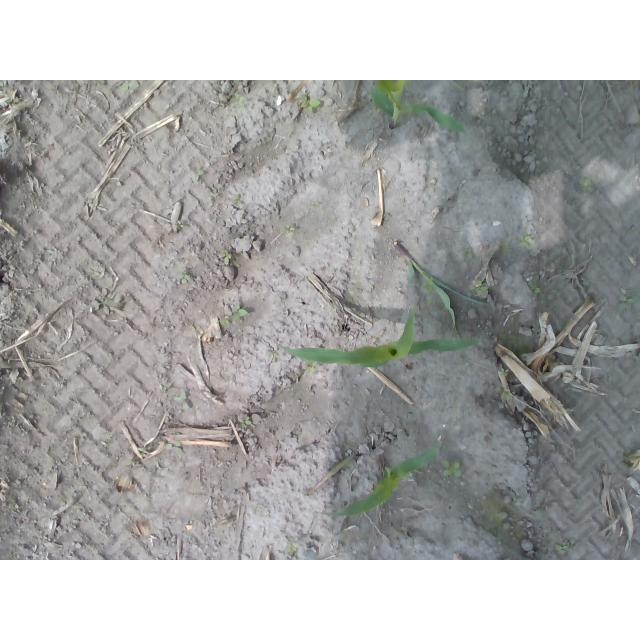Maize: (277, 308, 491, 369), (393, 240, 490, 340), (326, 440, 442, 517), (368, 81, 463, 136)
Weeds: (89, 289, 122, 315), (299, 95, 321, 113), (442, 459, 462, 477), (174, 391, 191, 412), (232, 303, 251, 321), (515, 233, 535, 247), (472, 281, 488, 296), (165, 443, 184, 455), (219, 250, 233, 266), (119, 80, 137, 92), (178, 272, 191, 285), (218, 315, 231, 326), (528, 283, 541, 294), (500, 389, 512, 400), (554, 542, 568, 551), (621, 294, 633, 304), (243, 415, 253, 427), (499, 367, 510, 377), (283, 225, 295, 234), (233, 95, 243, 104)
